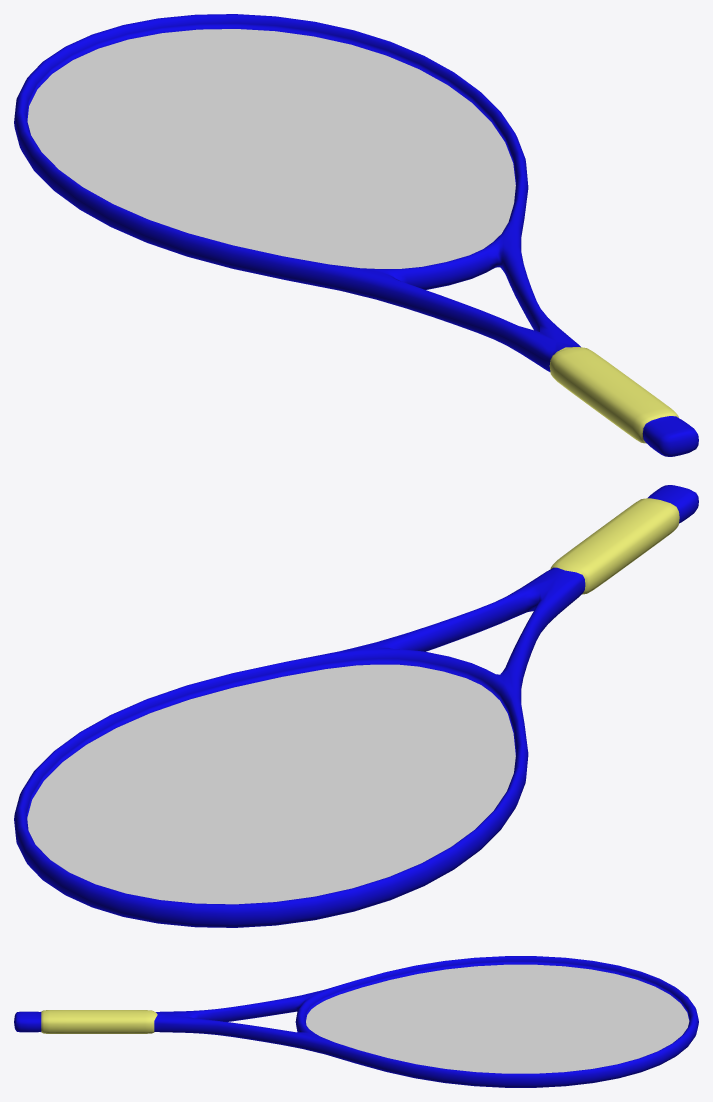
The model's file is Raqueta.fbx.
3 renders of one model, top to bottom at view 1: azimuth 30°, elevation 25°; view 2: azimuth 150°, elevation 25°; view 3: azimuth 270°, elevation 25°, orthographic. The views are drawn at different scales.
Parts seen in each view (by area): view 1: Circle; view 2: Circle; view 3: Circle.
Boxes of the visible parts, x1=… form: Circle: x1=14, y1=14, x2=698, y2=456; Circle: x1=14, y1=485, x2=698, y2=927; Circle: x1=14, y1=956, x2=698, y2=1087.
Size of the model in its own units: 42.2 by 2.85 by 101.
